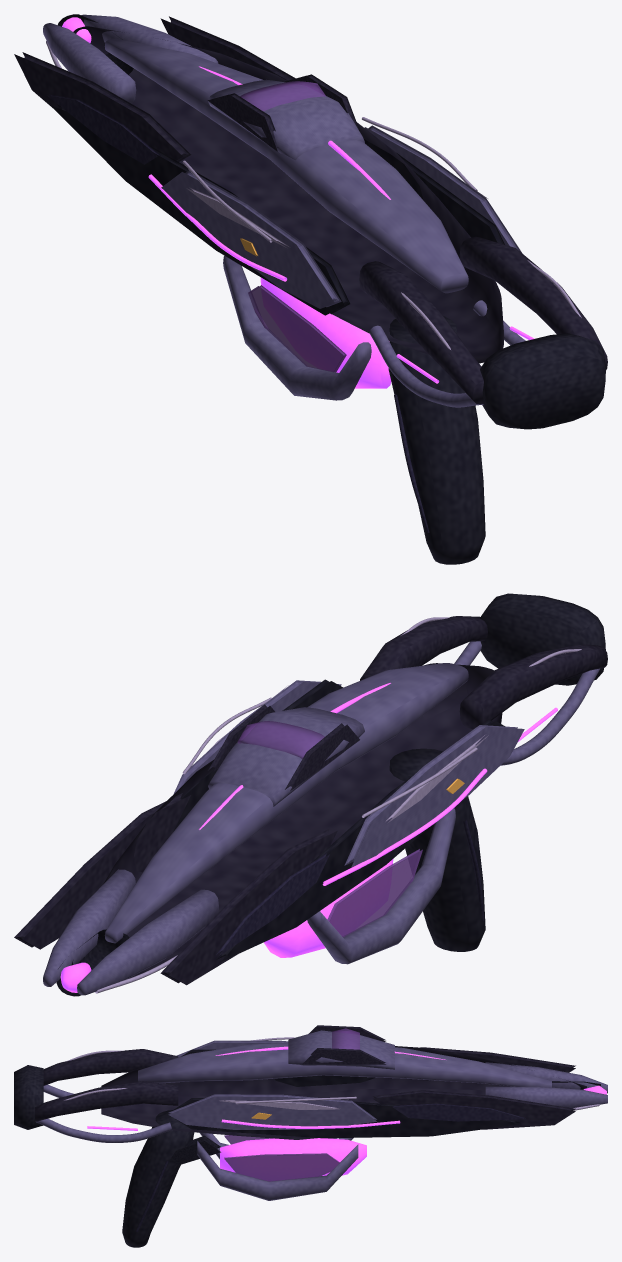
Rendered from aether-s9-vesper-eclipse-performance.glb.
3 views of the same model, one above another, from view 1: azimuth 30°, elevation 25°; view 2: azimuth 150°, elevation 25°; view 3: azimuth 270°, elevation 25° (orthographic). The views are drawn at different scales.
Visible parts, largest first — view 1: 01 / VESPER sculpted ceramic monocoque, 02 / continuous titanium flight crest, 09 / curved carbon aesthetic grip, 07 / round rear termination, LEFT / floating swept shoulder blade, 10 / flush integrated vision crown, LEFT / continuous rear arc, LEFT / crescent cradle underneath prism, RIGHT / continuous rear arc, LEFT / recessed long flank groove, LEFT / front tapered scythe fin, LEFT / transparent capsule cheek (+12 smaller); view 2: 02 / continuous titanium flight crest, 01 / VESPER sculpted ceramic monocoque, LEFT / floating swept shoulder blade, 09 / curved carbon aesthetic grip, 10 / flush integrated vision crown, 07 / round rear termination, RIGHT / front tapered scythe fin, LEFT / crescent cradle underneath prism, LEFT / front tapered scythe fin, LEFT / continuous rear arc, LEFT / split-petal swept prow, LEFT / recessed long flank groove (+15 smaller); view 3: 02 / continuous titanium flight crest, 01 / VESPER sculpted ceramic monocoque, RIGHT / floating swept shoulder blade, 09 / curved carbon aesthetic grip, RIGHT / recessed long flank groove, RIGHT / front tapered scythe fin, RIGHT / continuous rear arc, RIGHT / crescent cradle underneath prism, 08 / levitating cyan luminous capsule, RIGHT / transparent capsule cheek, 10 / flush integrated vision crown, LEFT / continuous rear arc (+15 smaller).
Part boxes in pixels (x1,y1,x2,y2): 01 / VESPER sculpted ceramic monocoque: (73,26,504,363); 02 / continuous titanium flight crest: (104,38,468,293); 09 / curved carbon aesthetic grip: (388,316,485,564); 07 / round rear termination: (480,333,605,429); LEFT / floating swept shoulder blade: (161,170,341,308); 10 / flush integrated vision crown: (208,79,364,160); LEFT / continuous rear arc: (359,261,483,404); LEFT / crescent cradle underneath prism: (223,255,371,400); RIGHT / continuous rear arc: (459,236,607,369); LEFT / recessed long flank groove: (51,104,350,315); LEFT / front tapered scythe fin: (14,52,191,161); LEFT / transparent capsule cheek: (248,285,346,372); 02 / continuous titanium flight crest: (104,663,468,943); 01 / VESPER sculpted ceramic monocoque: (71,663,502,978); LEFT / floating swept shoulder blade: (344,725,524,867); 09 / curved carbon aesthetic grip: (389,748,485,951); 10 / flush integrated vision crown: (208,707,364,806); 07 / round rear termination: (480,593,605,685); RIGHT / front tapered scythe fin: (14,793,190,949); LEFT / crescent cradle underneath prism: (307,808,455,964); LEFT / front tapered scythe fin: (160,829,337,985); LEFT / continuous rear arc: (459,644,607,729); LEFT / split-petal swept prow: (77,889,218,995); LEFT / recessed long flank groove: (216,719,505,961); 02 / continuous titanium flight crest: (138,1042,551,1087); 01 / VESPER sculpted ceramic monocoque: (101,1046,586,1139); RIGHT / floating swept shoulder blade: (168,1094,376,1129); 09 / curved carbon aesthetic grip: (122,1110,194,1247); RIGHT / recessed long flank groove: (171,1098,521,1138); RIGHT / front tapered scythe fin: (372,1090,575,1129); RIGHT / continuous rear arc: (35,1081,178,1121); RIGHT / crescent cradle underneath prism: (197,1141,358,1200); 08 / levitating cyan luminous capsule: (220,1138,366,1175); RIGHT / transparent capsule cheek: (224,1153,339,1181); 10 / flush integrated vision crown: (288,1030,394,1069); LEFT / continuous rear arc: (43,1049,178,1085).
Size of the model in its own units: 0.862 by 1.3 by 3.4.
9 materials, 9 textured.
